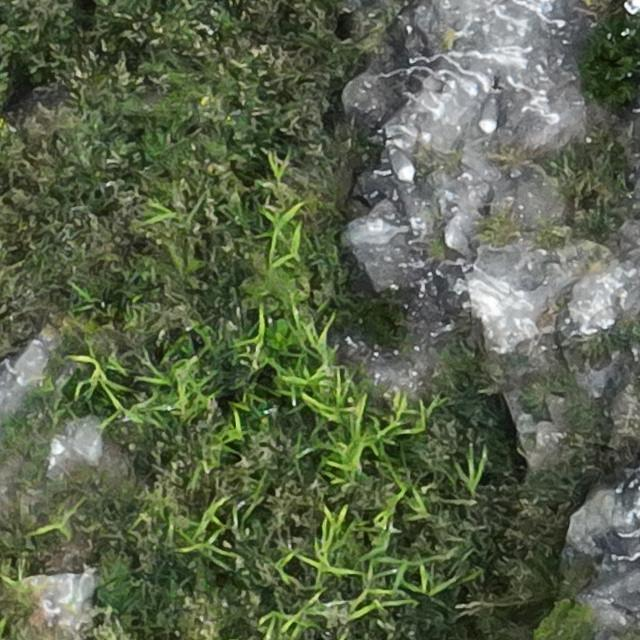umineko: (390, 149, 416, 178), (479, 95, 498, 133)
